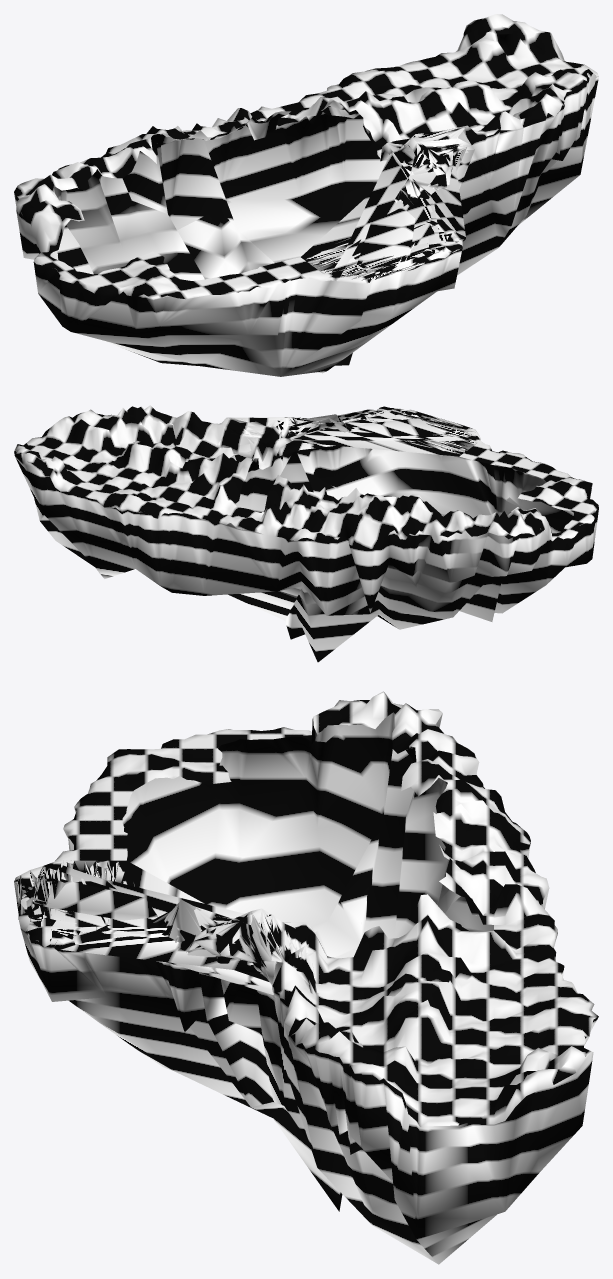
File: ingm1.dae
3 views of the same model, one above another, from view 1: azimuth 30°, elevation 25°; view 2: azimuth 150°, elevation 25°; view 3: azimuth 270°, elevation 25° (orthographic). The views are drawn at different scales.
Visible parts, largest first — view 1: down; view 2: down; view 3: down.
Boxes of the visible parts, x1,y1,x2,y2 form: down: (14,14,598,376); down: (14,405,598,662); down: (14,691,598,1264).
Size of the model in its own units: 7 by 4.27 by 2.68.
Materials: 1 (1 with a texture image).
